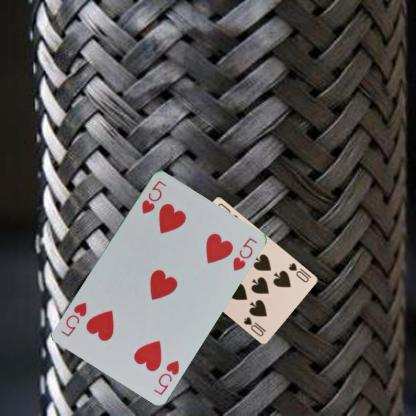10s: (285, 260, 310, 284)
5h: (151, 357, 181, 396), (139, 177, 168, 215)
